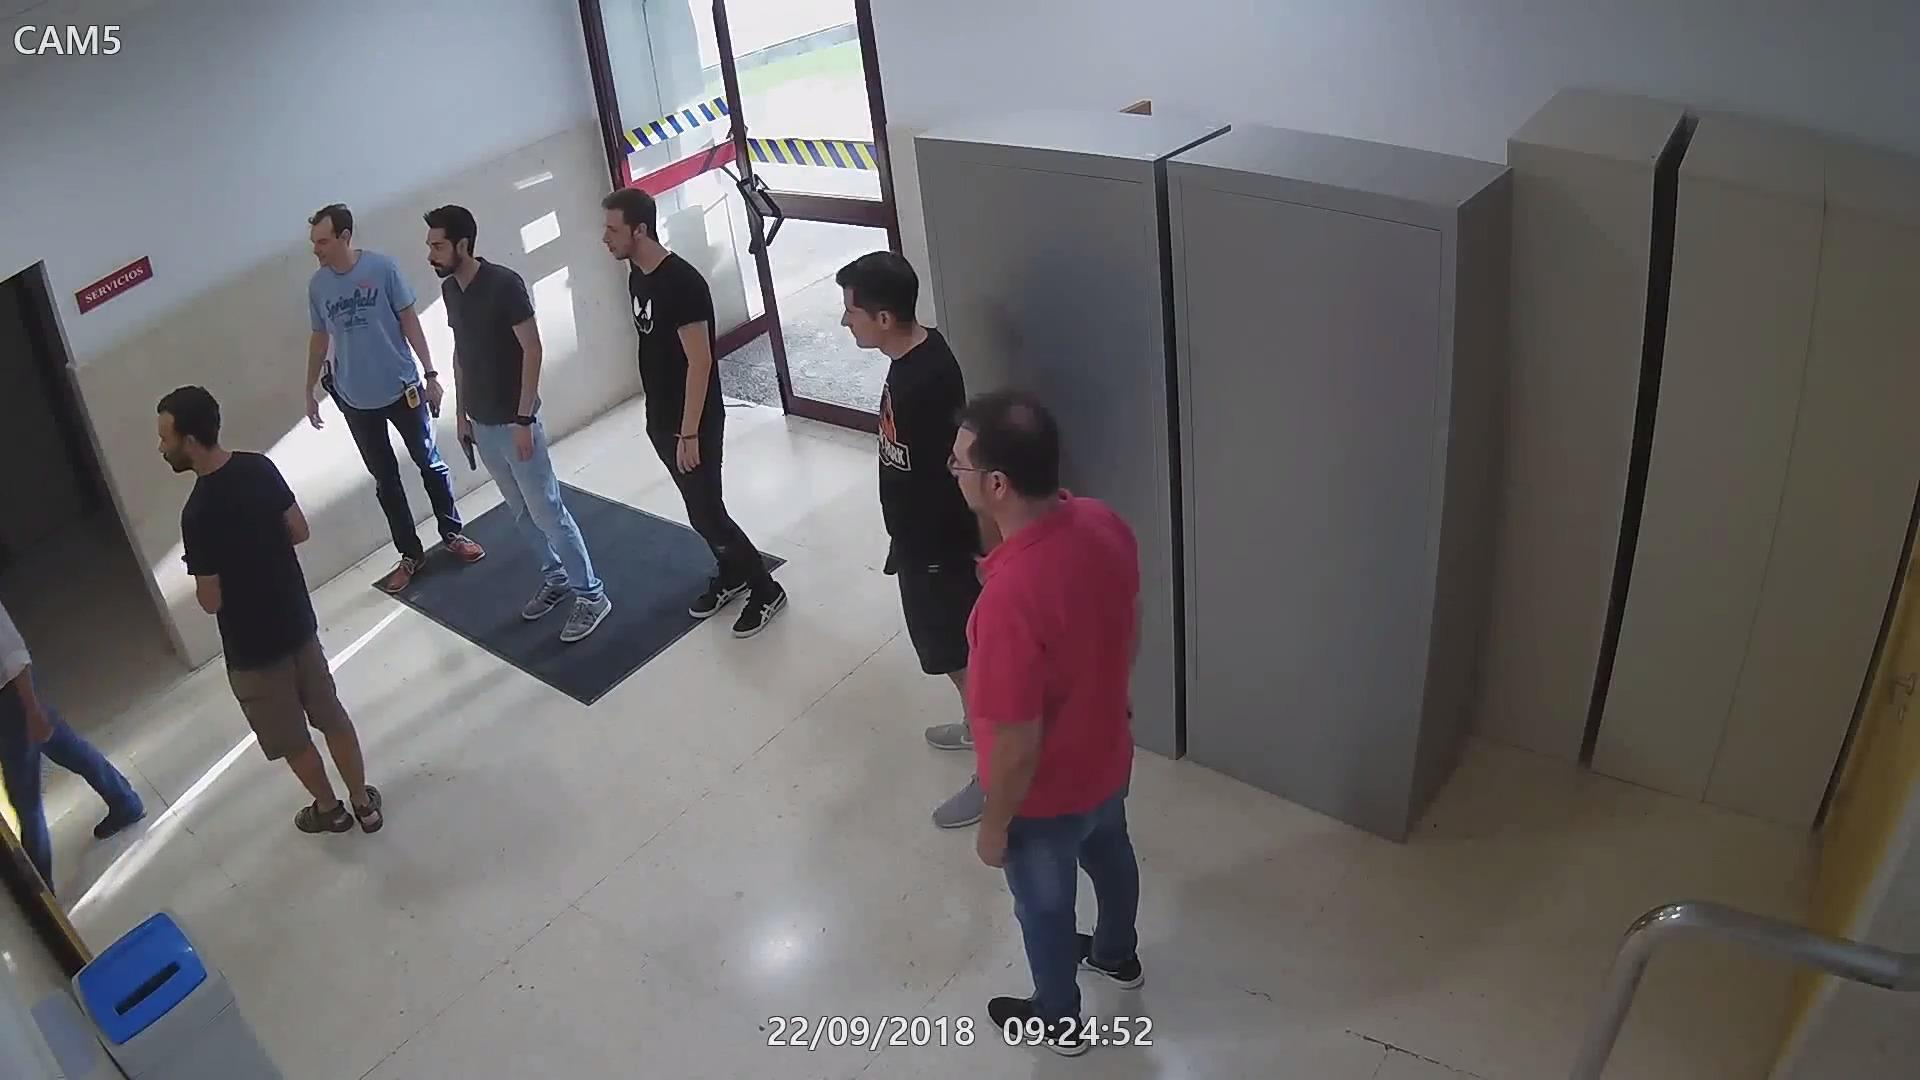Handgun: (452, 413, 479, 473), (316, 355, 343, 413), (881, 526, 901, 580)
